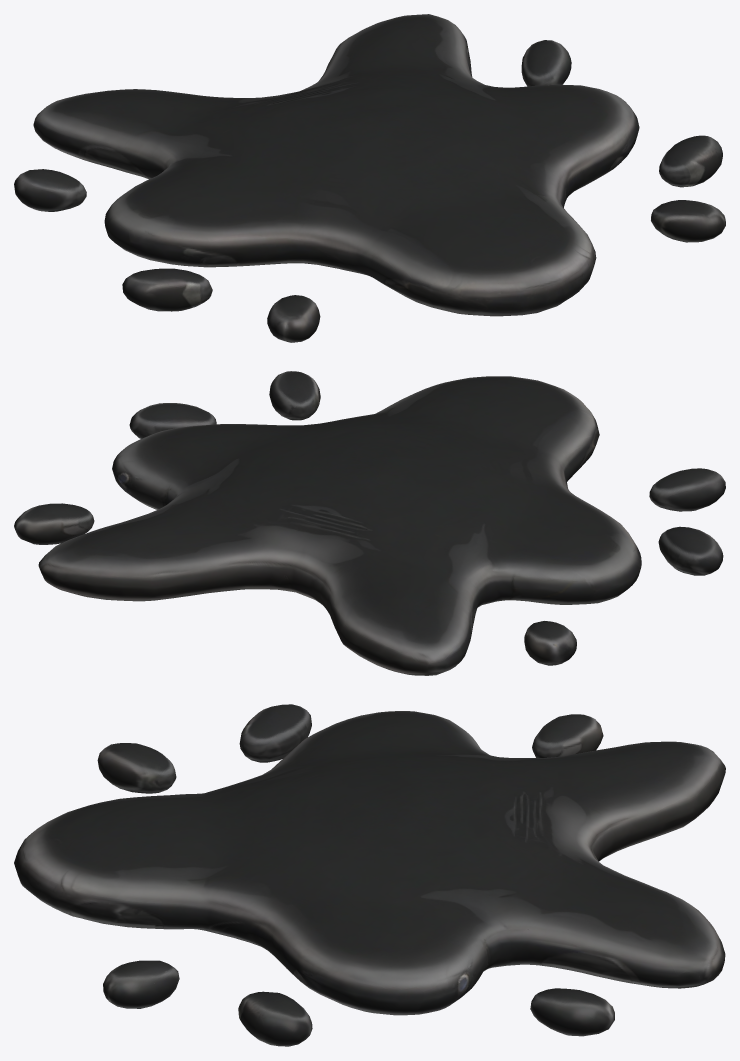
File: Oil_1025165241_texture.fbx
The picture shows the model from 3 angles, top to bottom: view 1: azimuth 30°, elevation 25°; view 2: azimuth 150°, elevation 25°; view 3: azimuth 270°, elevation 25°; orthographic projection. The views are drawn at different scales.
Visible parts, largest first — view 1: Mesh1.0; view 2: Mesh1.0; view 3: Mesh1.0.
Part boxes in pixels (x1,y1,x2,y2): Mesh1.0: (14,14,725,342); Mesh1.0: (14,371,725,675); Mesh1.0: (14,704,725,1046).
Bounding box in the file's own units: 200 × 29.93 × 187.
1 material, 1 textured.
